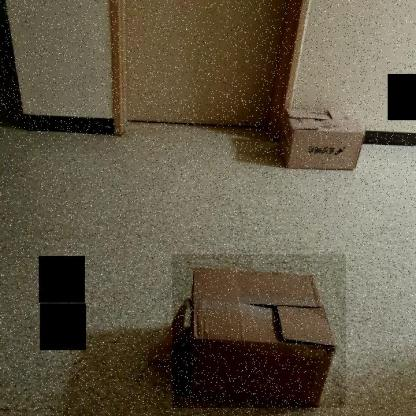box: (172, 254, 346, 408)
